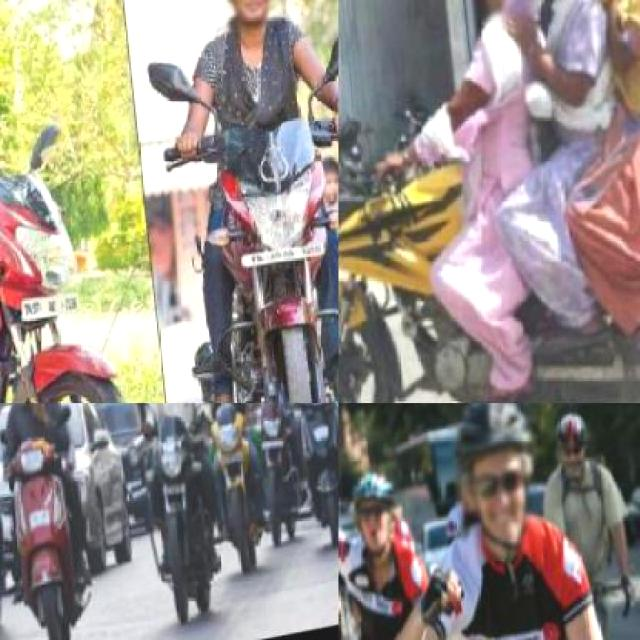With Helmet: (443, 403, 546, 574), (341, 460, 410, 571), (552, 407, 596, 487)
Without Helmet: (212, 0, 286, 48), (470, 0, 541, 35), (14, 403, 51, 420)
